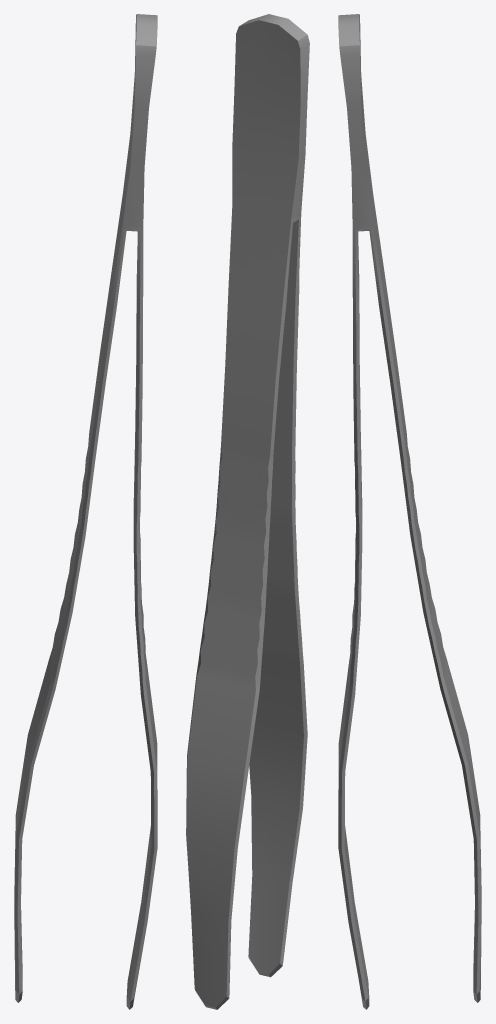
The model's file is nhip_thang.glb.
3 renders of one model, left to right at view 1: azimuth 90°, elevation 25°; view 2: azimuth 150°, elevation 25°; view 3: azimuth 270°, elevation 25°, orthographic. The views are drawn at different scales.
Visible parts, largest first — view 1: nhip_thang; view 2: nhip_thang; view 3: nhip_thang.
Part boxes in pixels (x1,y1,x2,y2): nhip_thang: (14,14,157,1009); nhip_thang: (186,14,309,1009); nhip_thang: (338,14,481,1009).
Size of the model in its own units: 0.01 by 0.1375 by 0.0181.
1 material, 1 textured.
